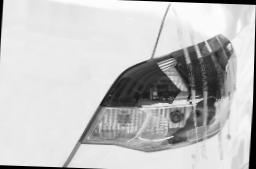Light: (81, 34, 238, 152)
